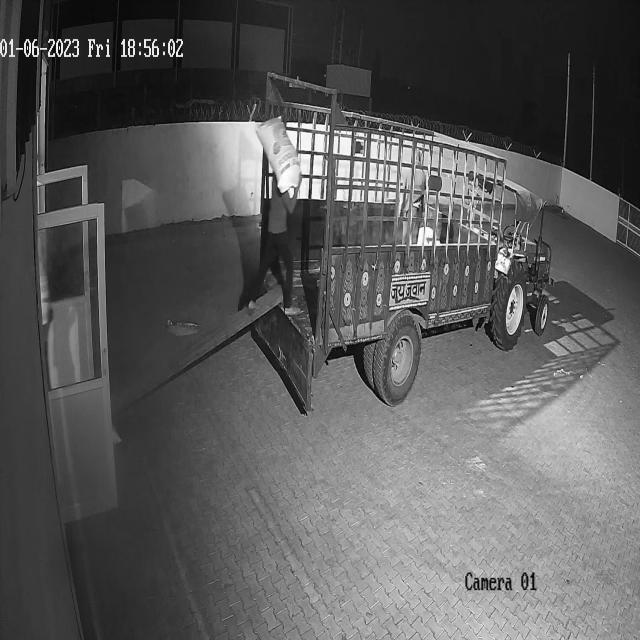sack: (255, 117, 300, 193)
